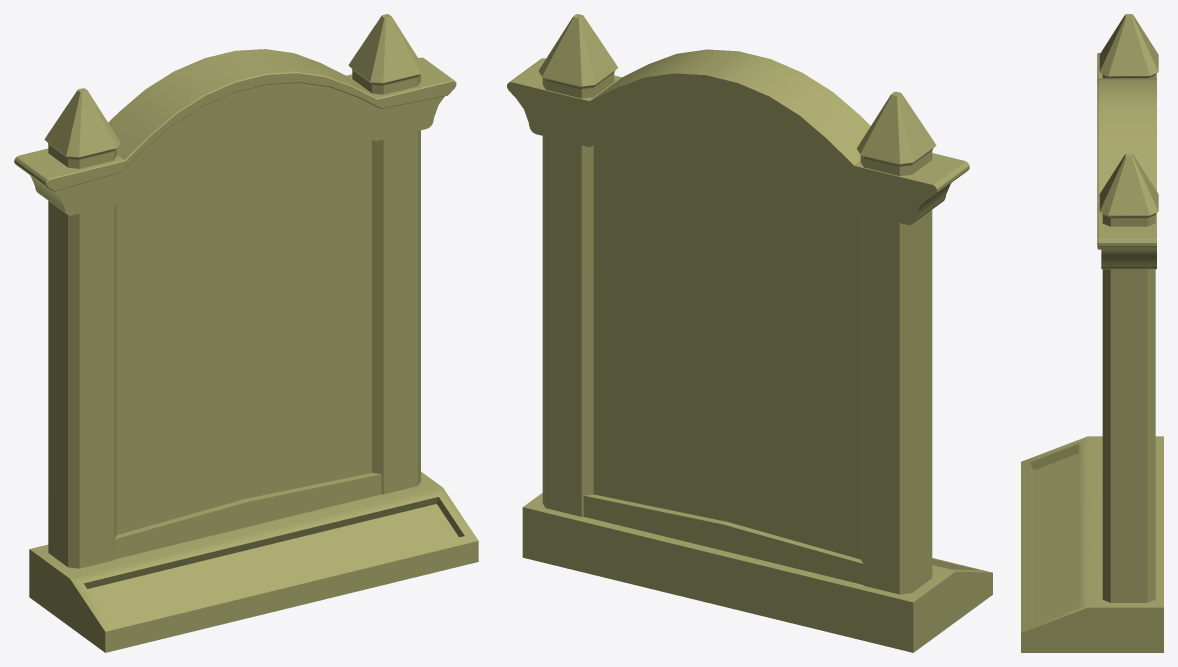
File: MOD_TombStone4.fbx
3 views of the same model, side by side, from view 1: azimuth 30°, elevation 25°; view 2: azimuth 150°, elevation 25°; view 3: azimuth 270°, elevation 25° (orthographic). The views are drawn at different scales.
Visible parts, largest first — view 1: TombStone_4; view 2: TombStone_4; view 3: TombStone_4.
Boxes of the visible parts, x1,y1,x2,y2 form: TombStone_4: (14, 14, 478, 652); TombStone_4: (507, 14, 992, 652); TombStone_4: (1021, 14, 1163, 652).
Size of the model in its own units: 355 by 422 by 114.
